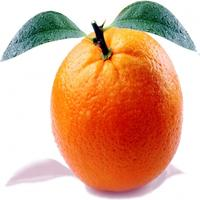orange: (24, 5, 192, 194)
